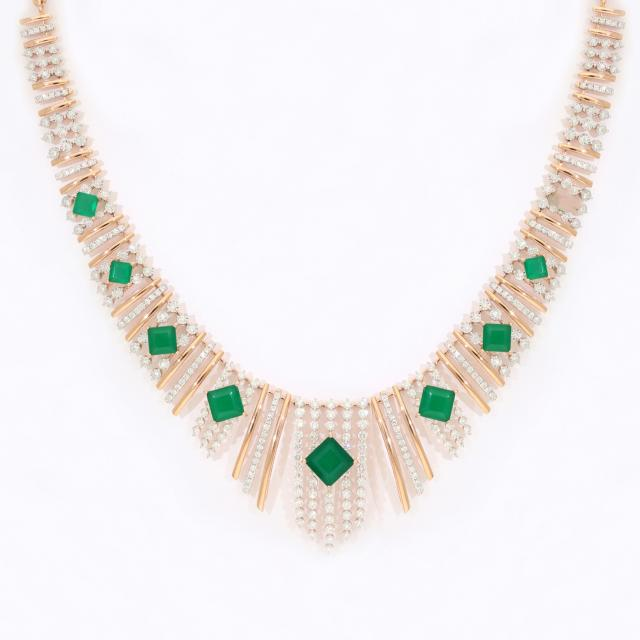missing gem: (552, 186, 581, 212)
